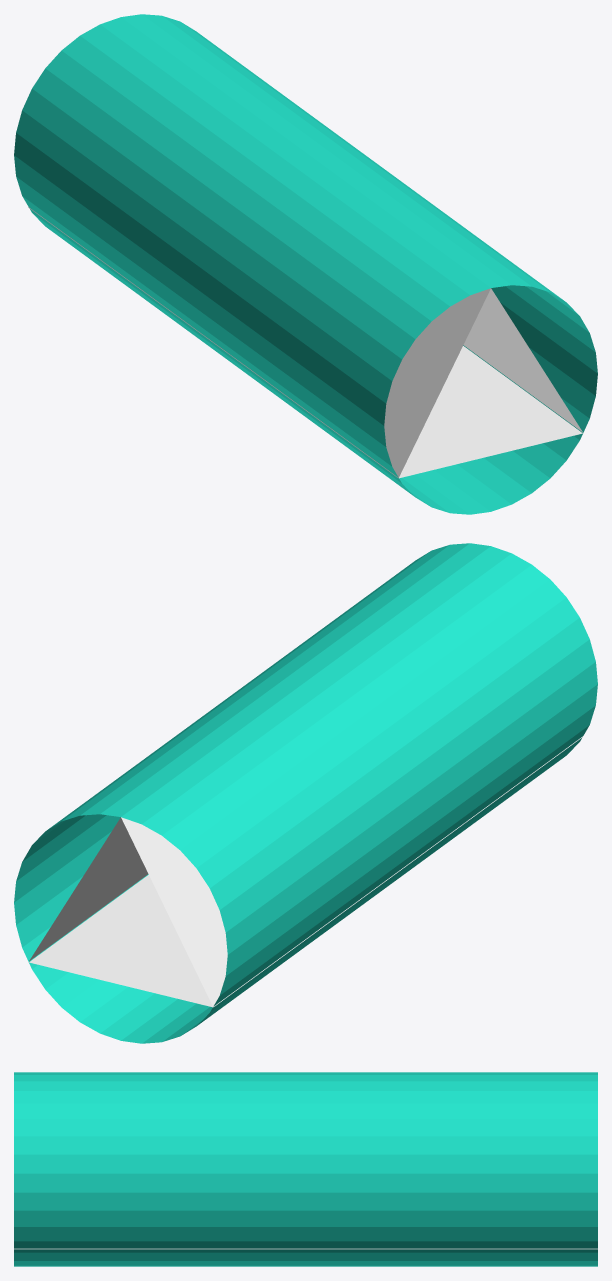
The model's file is Kaleidoscope obj.gltf.
3 renders of one model, top to bottom at view 1: azimuth 30°, elevation 25°; view 2: azimuth 150°, elevation 25°; view 3: azimuth 270°, elevation 25°, orthographic. The views are drawn at different scales.
Visible parts, largest first — view 1: Cylinder.001, Cylinder; view 2: Cylinder.001, Cylinder; view 3: Cylinder.001, Cylinder.
Boxes of the visible parts, <box> form: Cylinder.001: <box>14,14,597,514</box>; Cylinder: <box>28,207,582,478</box>; Cylinder.001: <box>14,543,597,1043</box>; Cylinder: <box>29,736,583,1007</box>; Cylinder.001: <box>14,1072,597,1266</box>; Cylinder: <box>14,1248,597,1249</box>.
Bounding box in the file's own units: 1 × 1 × 3.
